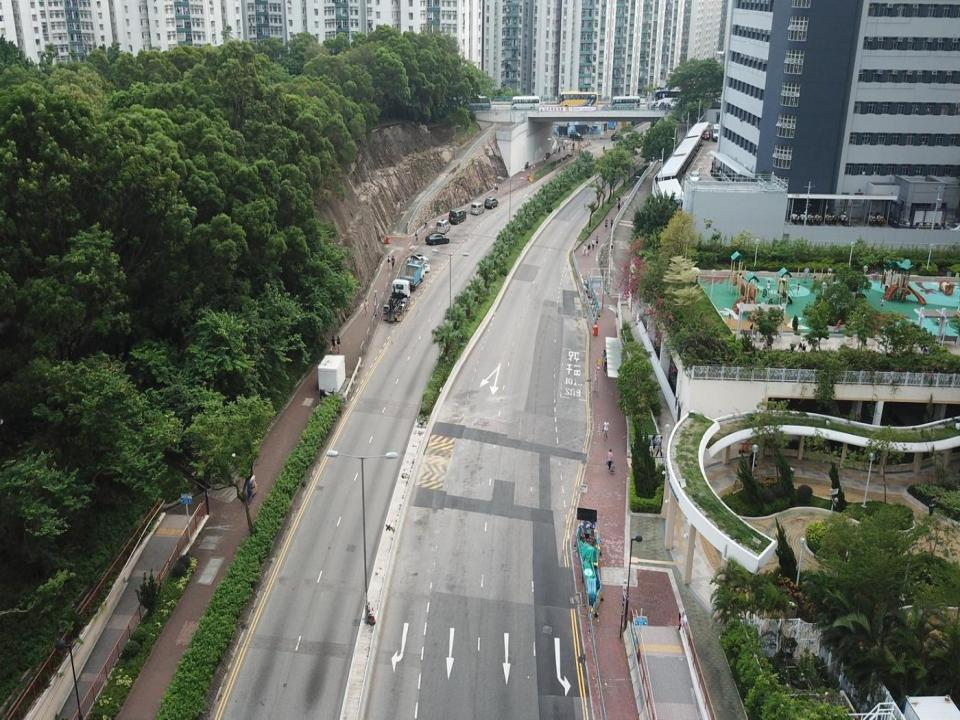bus: (651, 90, 694, 112), (557, 91, 598, 109), (461, 95, 490, 111), (511, 96, 540, 111), (610, 96, 640, 110)
car: (426, 232, 449, 245), (485, 196, 498, 209), (689, 170, 700, 185), (610, 132, 623, 140), (702, 129, 710, 140)
truck: (382, 278, 410, 322), (399, 258, 425, 290)
van: (407, 254, 430, 274), (448, 207, 466, 225), (434, 219, 450, 235), (712, 123, 724, 141), (471, 202, 484, 215), (570, 132, 583, 140)
